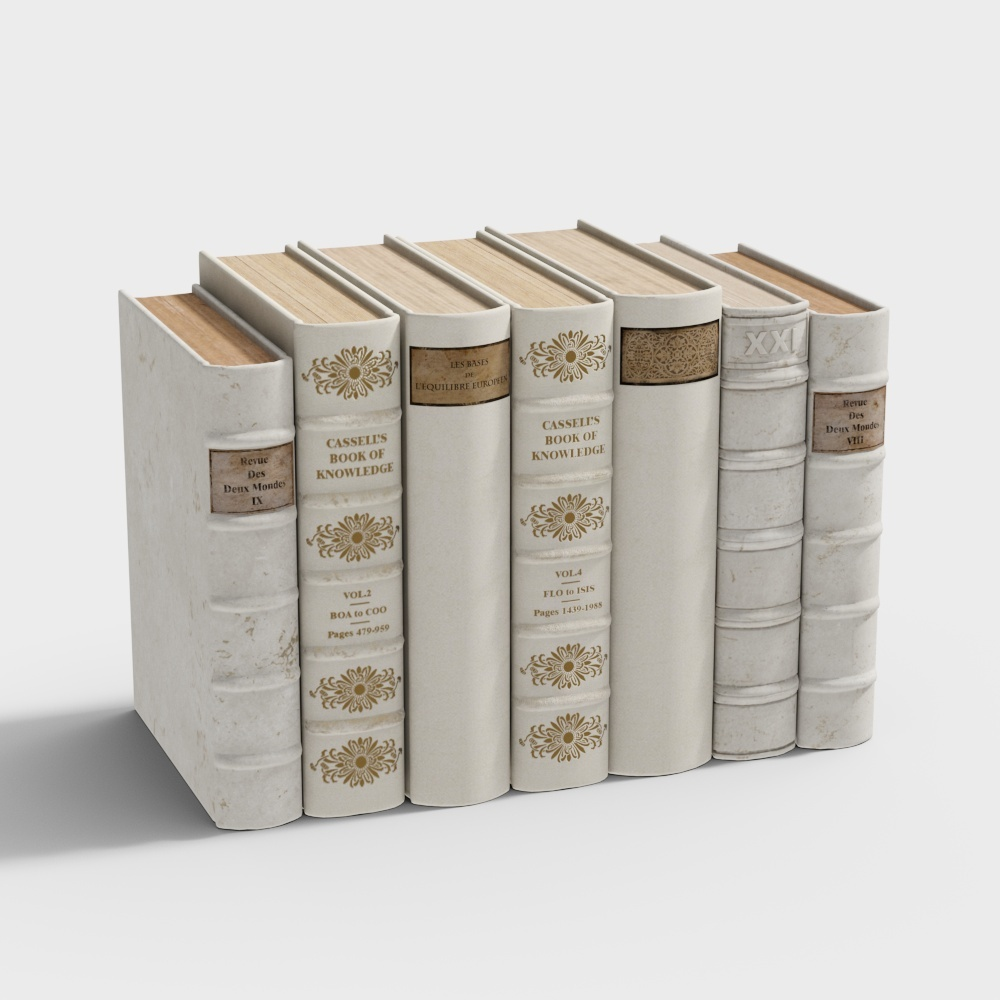book: (207, 238, 409, 826), (325, 238, 512, 803), (111, 279, 297, 828), (566, 238, 720, 779), (471, 253, 606, 790), (694, 285, 806, 762), (789, 268, 894, 755)
